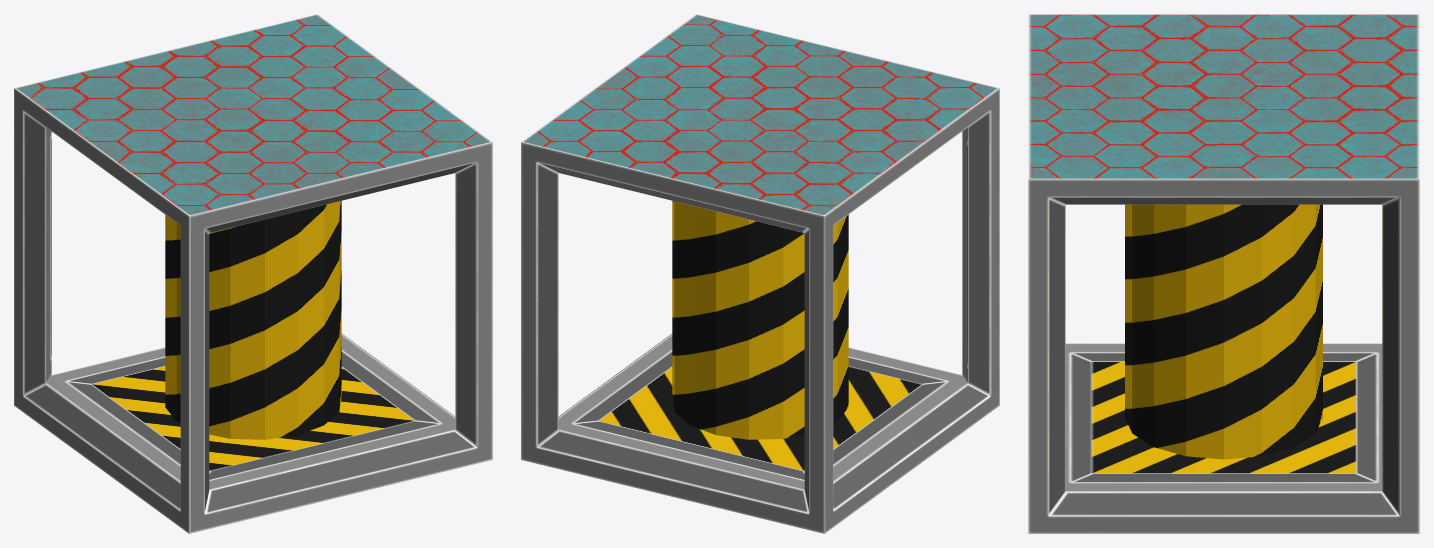
Rendered from CubeDanger.fbx.
3 renders of one model, left to right at view 1: azimuth 30°, elevation 25°; view 2: azimuth 150°, elevation 25°; view 3: azimuth 270°, elevation 25°, orthographic. The views are drawn at different scales.
Visible parts, largest first — view 1: Cube; view 2: Cube; view 3: Cube.
Boxes of the visible parts, bbox=[...] form: Cube: bbox=[14, 14, 492, 533]; Cube: bbox=[521, 14, 999, 533]; Cube: bbox=[1028, 14, 1419, 533].
Size of the model in its own units: 200 by 200 by 200.
